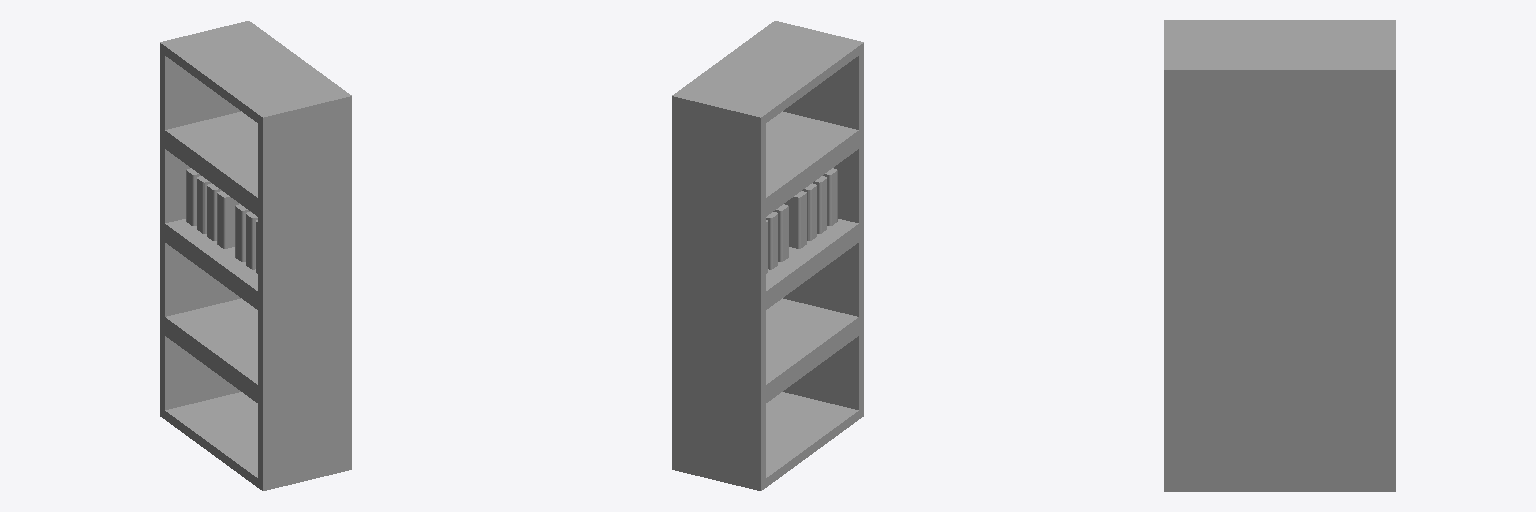
The robot description file, URDF, robot "bump":
<?xml version="1.0" ?>
<robot name="bump">
  <link name="bummpclass">
    <visual>
      <geometry>
        <mesh filename="package://Panda/meshes/collision/bookshelf.obj" scale ="1 1 1"/>
      </geometry> 
      <material name="green">
                <color rgba="0.7 0.7 0.7 1"/>
            </material>
    </visual>
    <collision>
      <geometry>
        <mesh filename="package://Panda/meshes/collision/bookshelf.obj" scale ="1 1 1"/>
      </geometry>
      <material name="green">
                <color rgba="0.7 0.7 0.7 1"/>
            </material>
    </collision>
  </link>
</robot>

--- Render facts (derived) ---
Views: 3 orthographic renders of the robot side by side, from view 1: azimuth 30°, elevation 25°; view 2: azimuth 150°, elevation 25°; view 3: azimuth 270°, elevation 25°.
Model bump with 1 links and 0 joints (none), rooted at bummpclass, posed every joint at zero.
Links seen in each view (by area): view 1: bummpclass; view 2: bummpclass; view 3: bummpclass.
Boxes of the visible links, left/top/right/bottom form: bummpclass: left=160, top=21, right=351, bottom=490; bummpclass: left=672, top=21, right=863, bottom=490; bummpclass: left=1164, top=20, right=1395, bottom=491.
Bounding box of the posed robot: 0.2 × 0.4 × 0.8 m (x, y, z).
Meshes: 1 distinct files referenced, 1 mesh visuals loaded (1 OBJ).